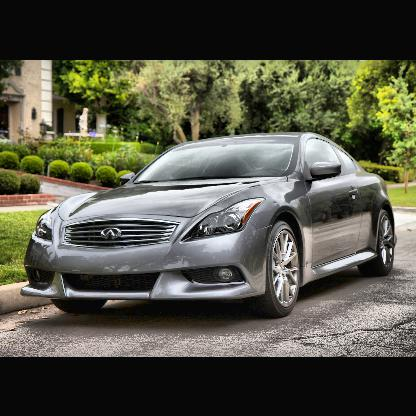Infiniti G Coupe IPL 2012: (21, 132, 397, 316)
